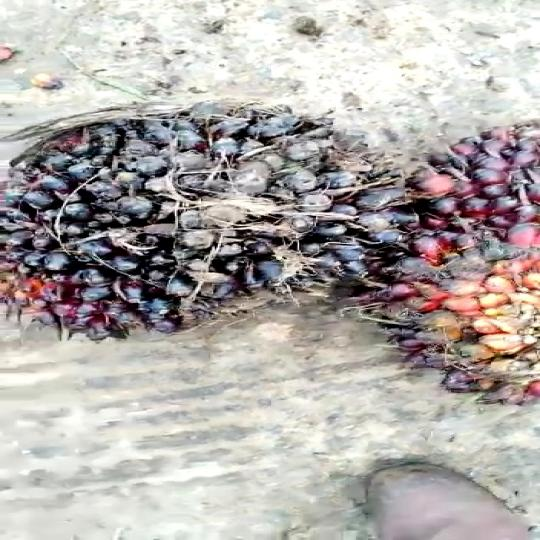kurang masak: (0, 94, 426, 342), (377, 93, 540, 425)
